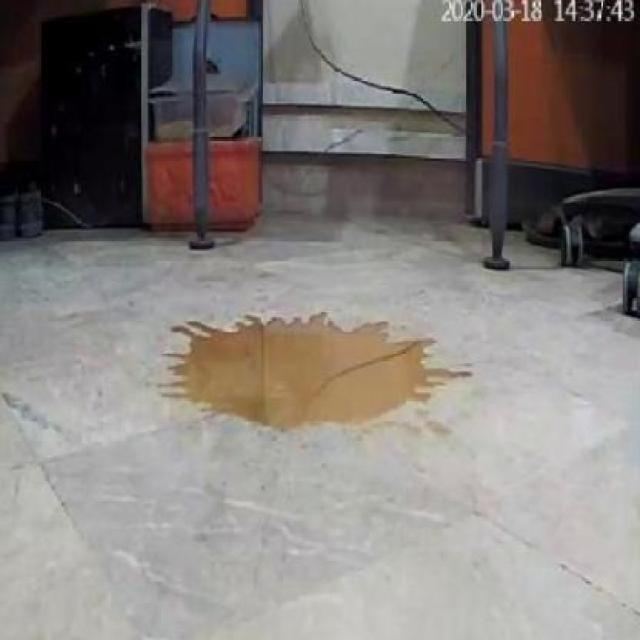spillage: (179, 319, 436, 435)
